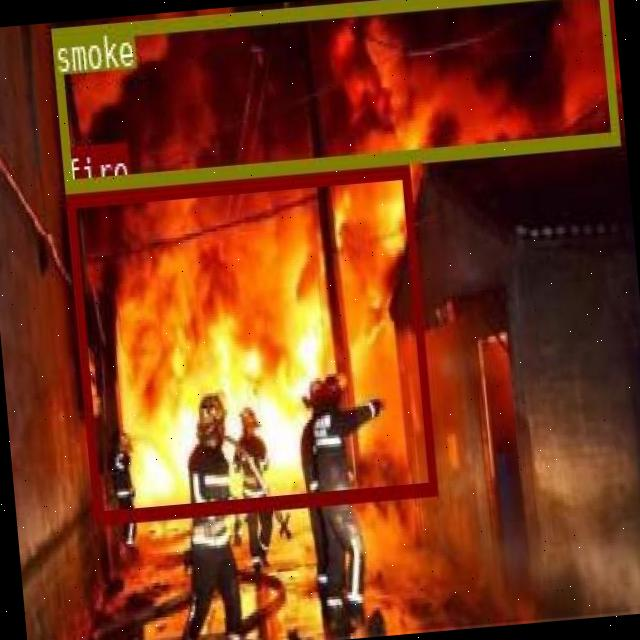fire: (63, 163, 434, 523)
smoke: (49, 0, 618, 190)
